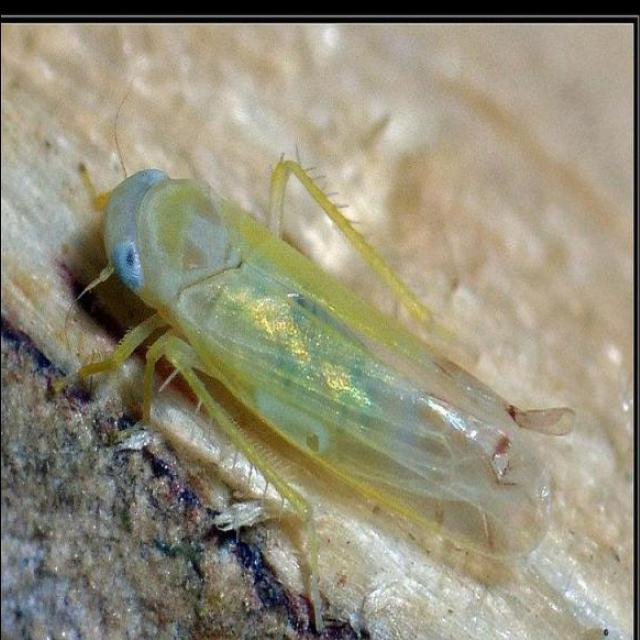green leaf hopper: (78, 159, 572, 562)
